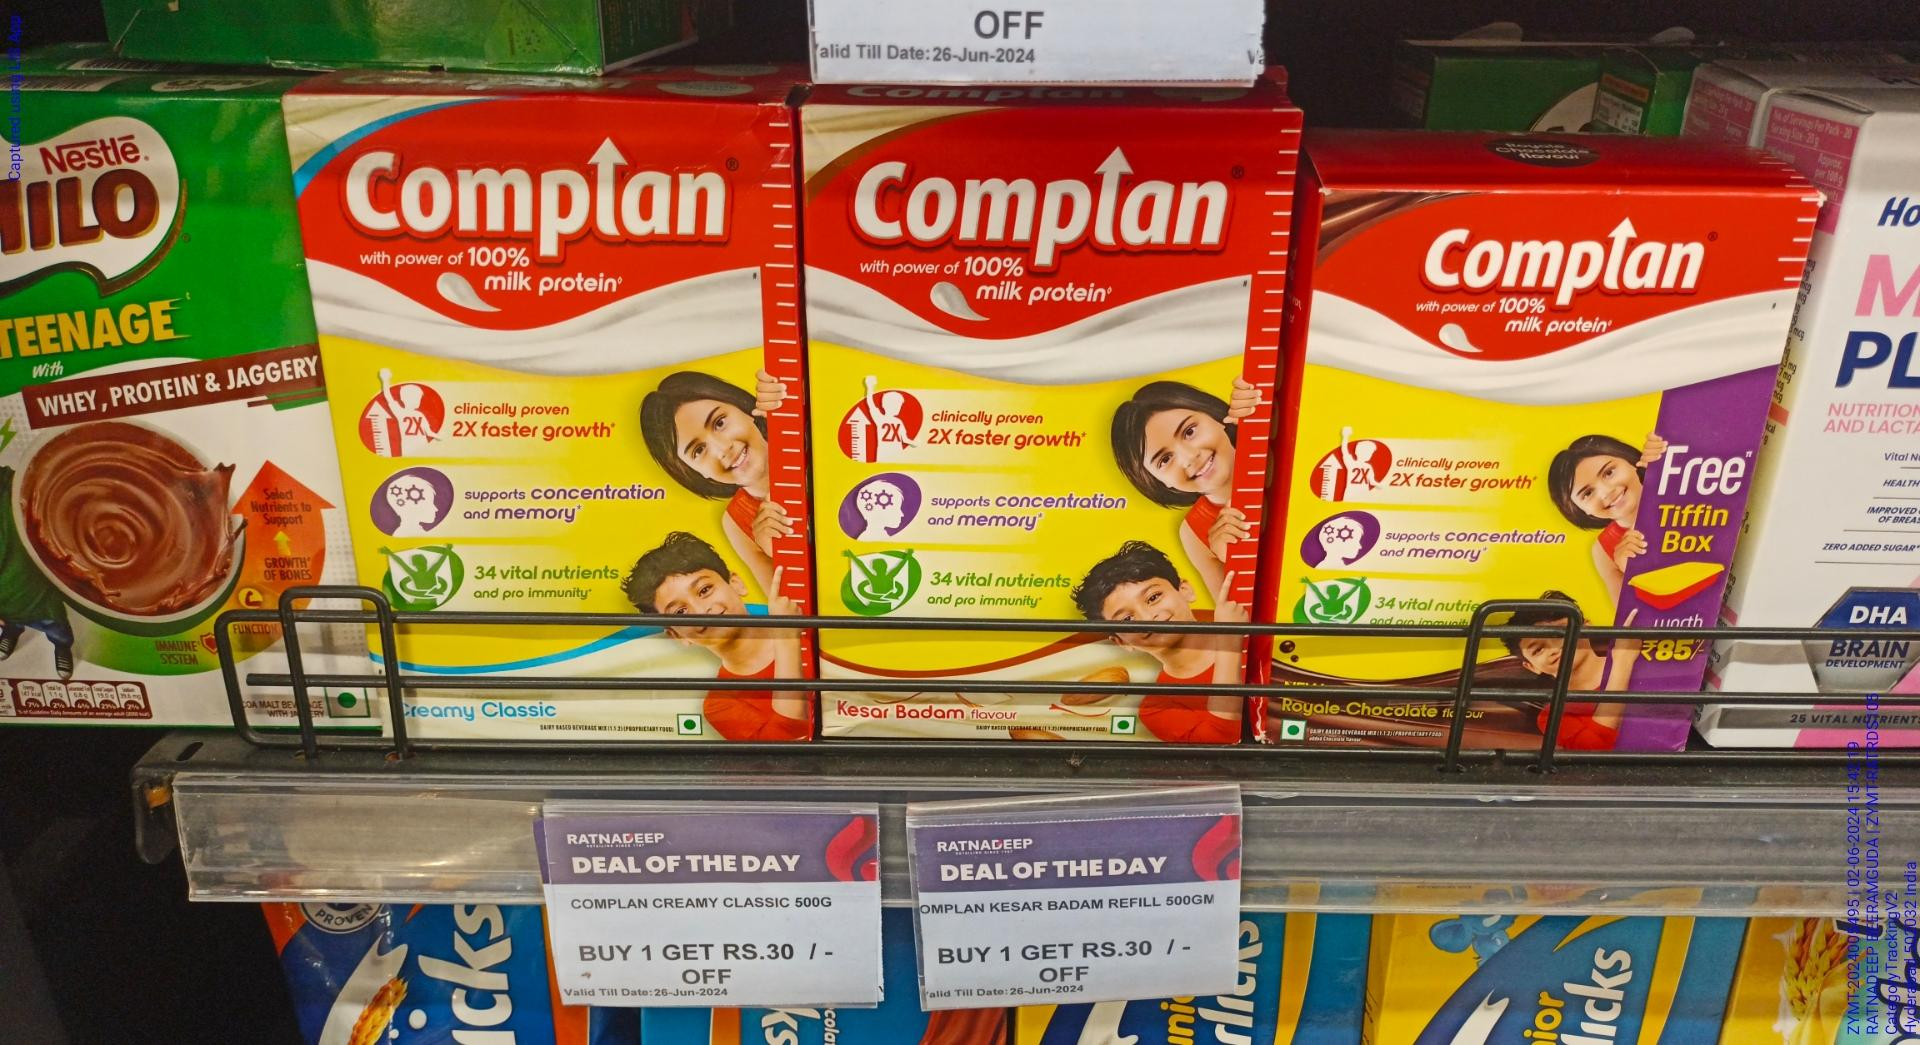COMPLAN_CREAMY_CLASSIC_500_G_PACK: (342, 91, 793, 740)
